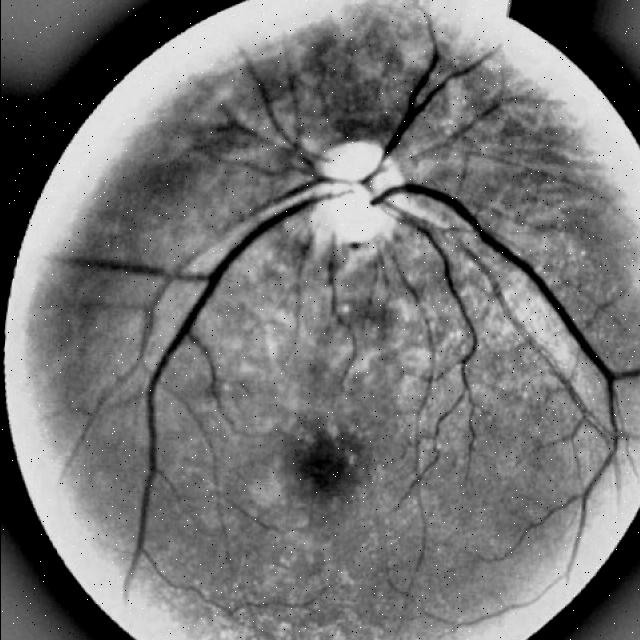Macula: (285, 431, 361, 497)
Nerves: (65, 51, 640, 508), (459, 241, 585, 411)
Optic Disk: (315, 141, 409, 243)
